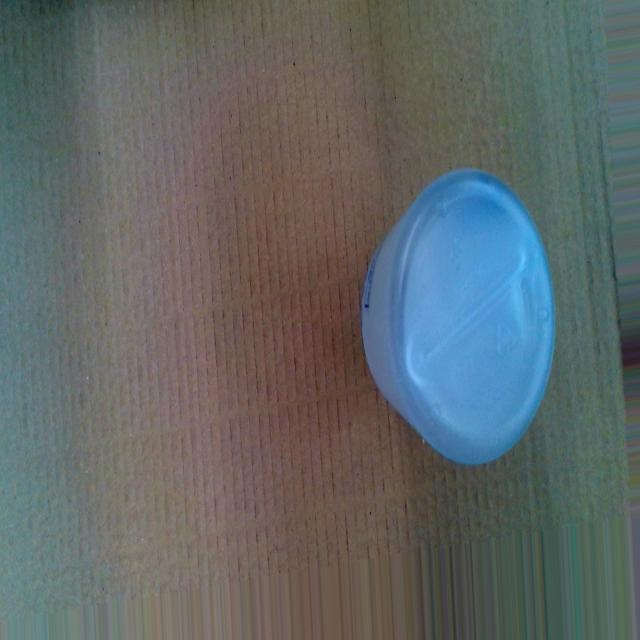bottle: (362, 166, 558, 472)
